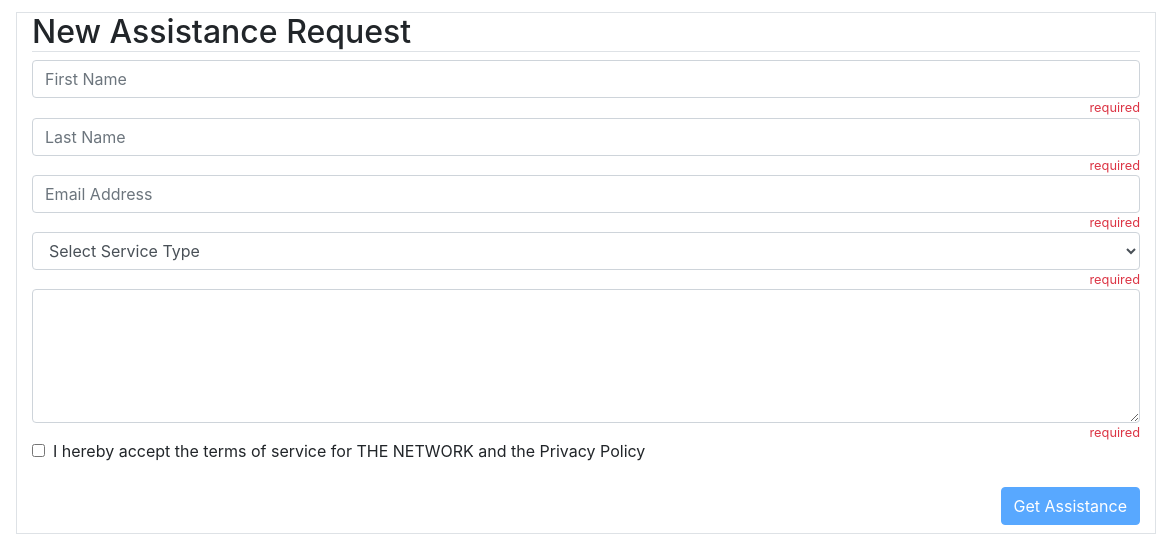
it: checkbox enables button
Expected: the button "Get Assistance" is disabled, top-left (1000, 487), bottom-right (1140, 525)
Click the checkbox.
click(38, 451)  # box top-left (32, 444), bottom-right (45, 457)
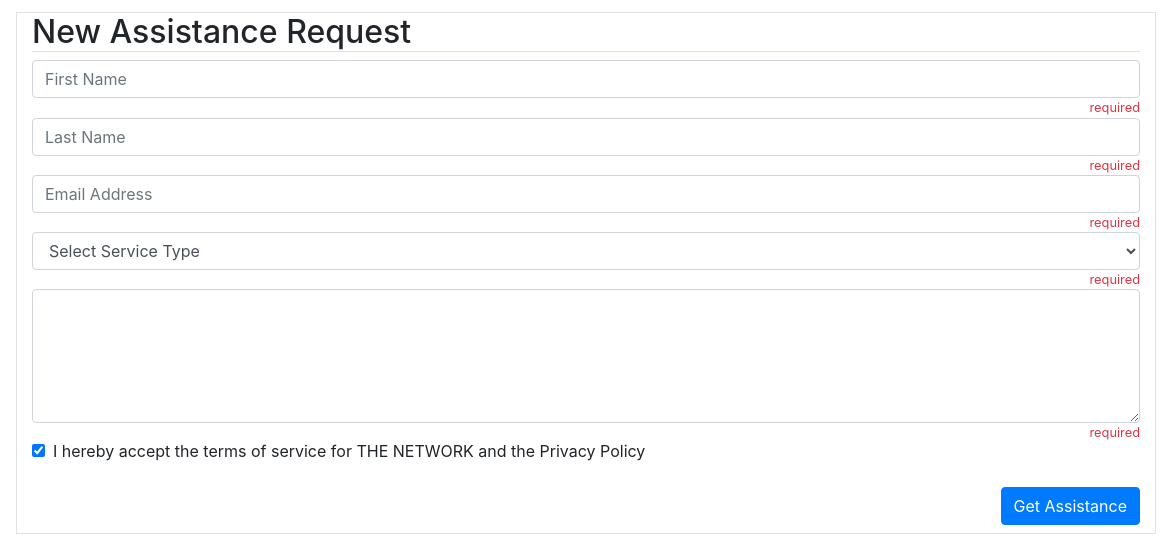
Now the button "Get Assistance" is enabled, box top-left (1000, 487), bottom-right (1140, 525)
